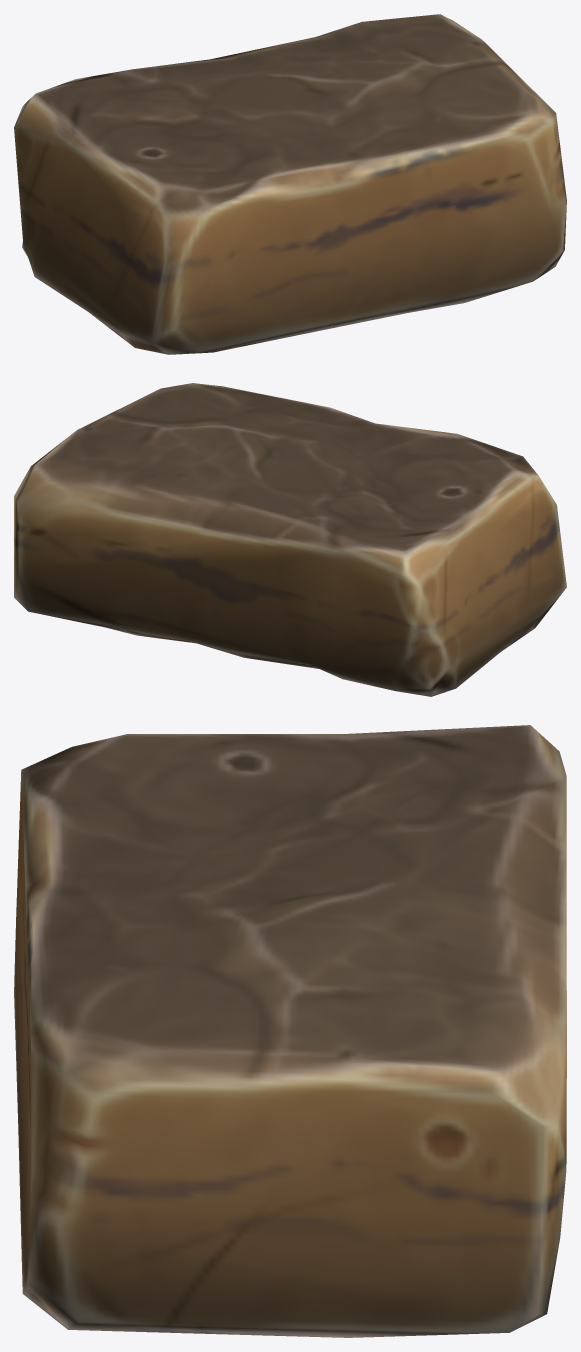
Rendered from SM_Gem_EyeOfTiger_002.fbx.
The picture shows the model from 3 angles, top to bottom: view 1: azimuth 30°, elevation 25°; view 2: azimuth 150°, elevation 25°; view 3: azimuth 270°, elevation 25°; orthographic projection. The views are drawn at different scales.
Visible parts, largest first — view 1: SM_Gem_EyeOfTiger_002; view 2: SM_Gem_EyeOfTiger_002; view 3: SM_Gem_EyeOfTiger_002.
Boxes of the visible parts, bbox=[...] form: SM_Gem_EyeOfTiger_002: bbox=[14, 14, 566, 354]; SM_Gem_EyeOfTiger_002: bbox=[14, 383, 566, 696]; SM_Gem_EyeOfTiger_002: bbox=[14, 725, 566, 1337].
Bounding box in the file's own units: 44.91 × 17.19 × 28.67.
